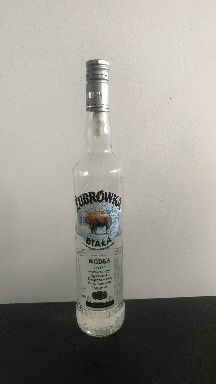butelka: (71, 55, 125, 339)
